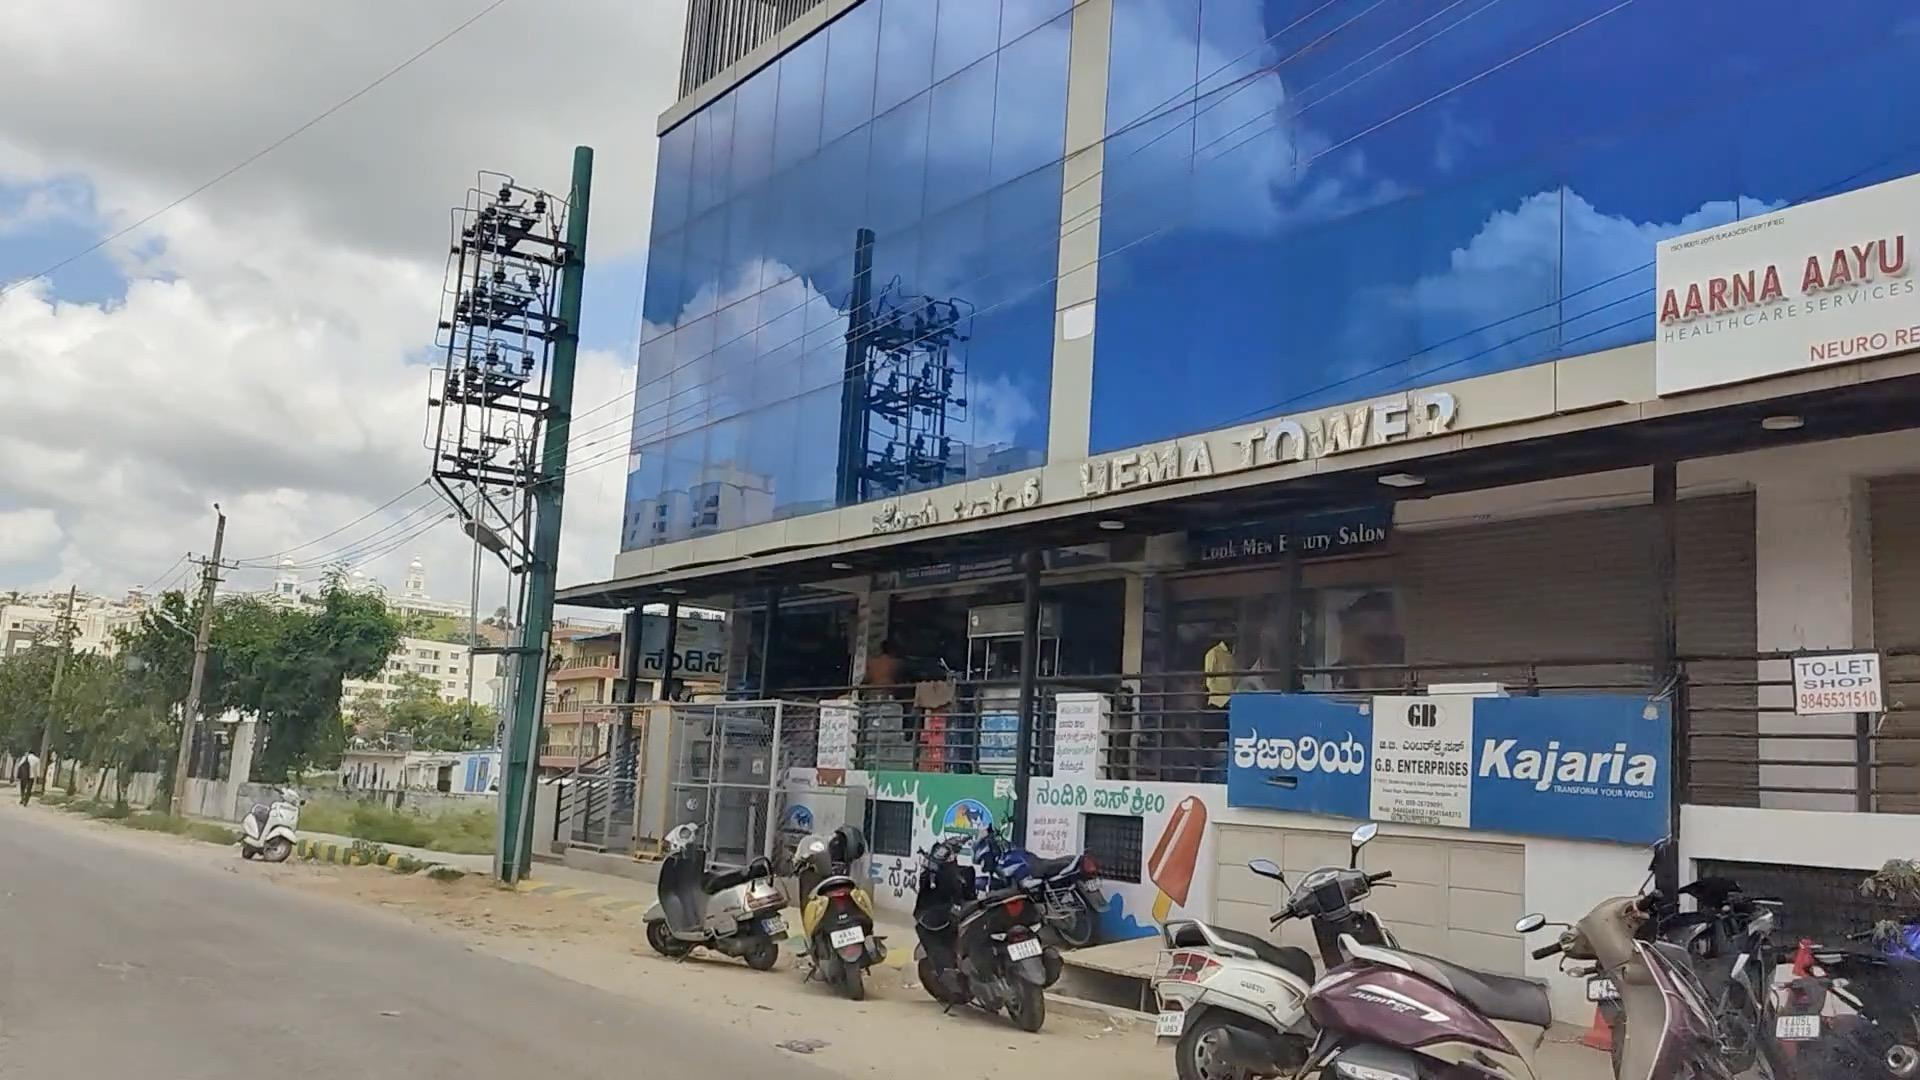LMV: (662, 815, 782, 955), (938, 835, 1044, 963), (810, 825, 893, 971)
